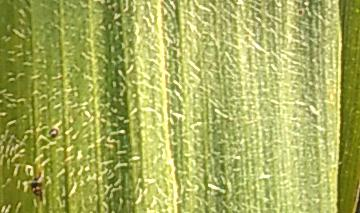tarspot: (22, 169, 50, 200), (46, 124, 61, 140)
